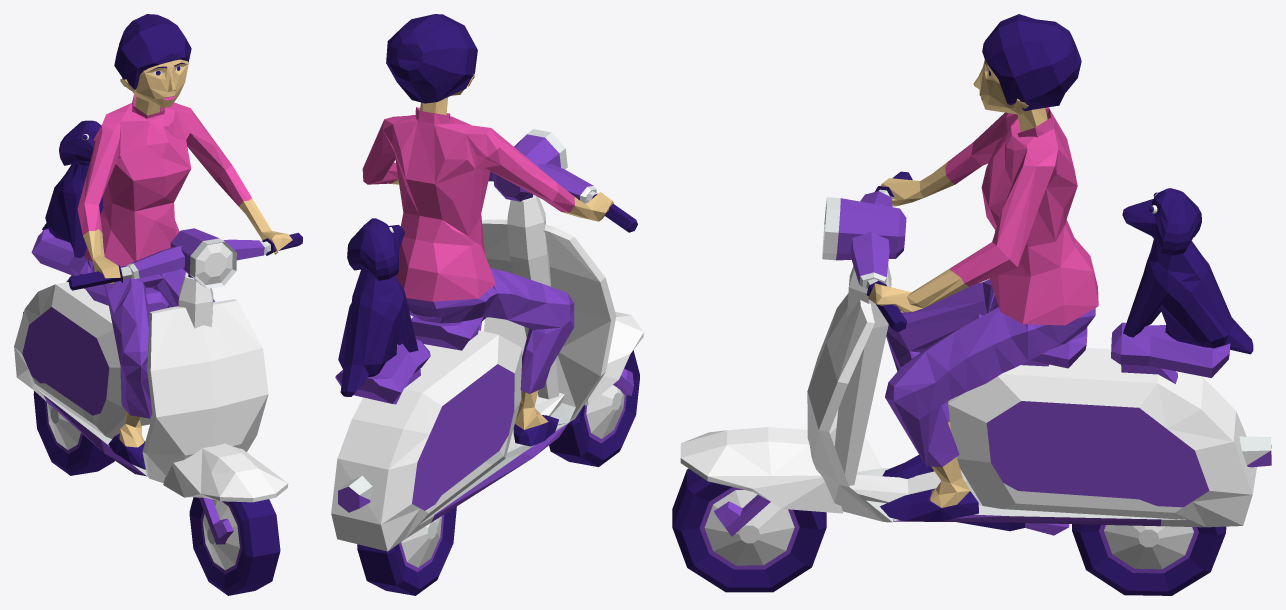
The model's file is scooter.glb.
3 renders of one model, left to right at view 1: azimuth 30°, elevation 25°; view 2: azimuth 150°, elevation 25°; view 3: azimuth 270°, elevation 25°, orthographic. The views are drawn at different scales.
Visible parts, largest first — view 1: group861611824, group399081721; view 2: group861611824, group399081721; view 3: group861611824, group399081721.
Boxes of the visible parts, box(x1,y1,x2,y2) form: group861611824: box(14, 14, 302, 595); group399081721: box(42, 120, 103, 257); group861611824: box(331, 14, 643, 595); group399081721: box(338, 218, 418, 396); group861611824: box(672, 14, 1271, 595); group399081721: box(1122, 188, 1253, 354).
Size of the model in its own units: 1.1 by 2.18 by 2.02.
